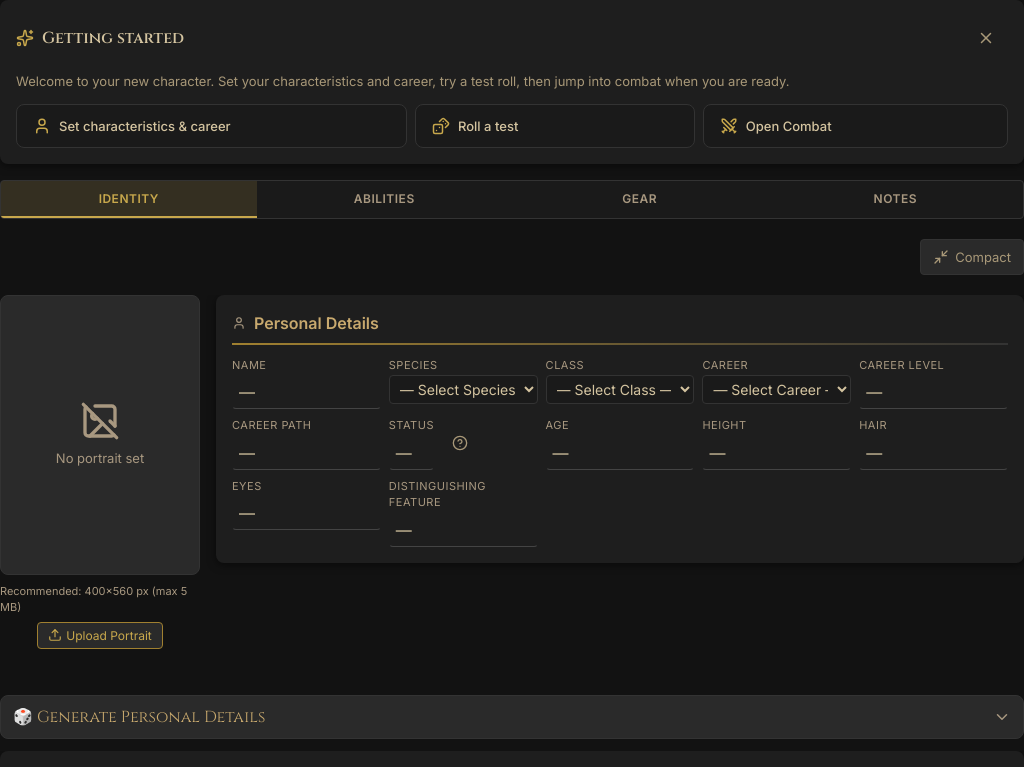
Test: Skill tooltips › pressing Escape dismisses the skill tooltip
The width and height of the screenshot is (1024, 767).
Note: Navigate to the Abilities tab where basic skills are rendered
Click the tab "Abilities". click: {"x": 384, "y": 199}
box: [256,180,512,218]
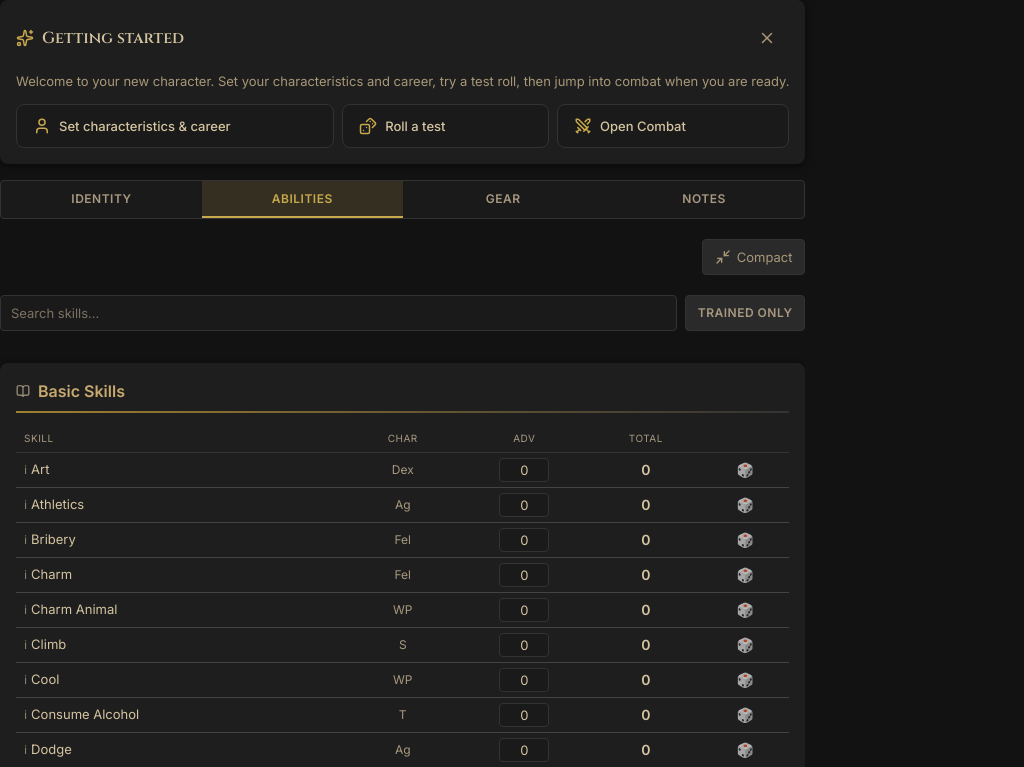
Click the button named "Info for Athletics". click: {"x": 26, "y": 504}
box: [24,496,27,514]
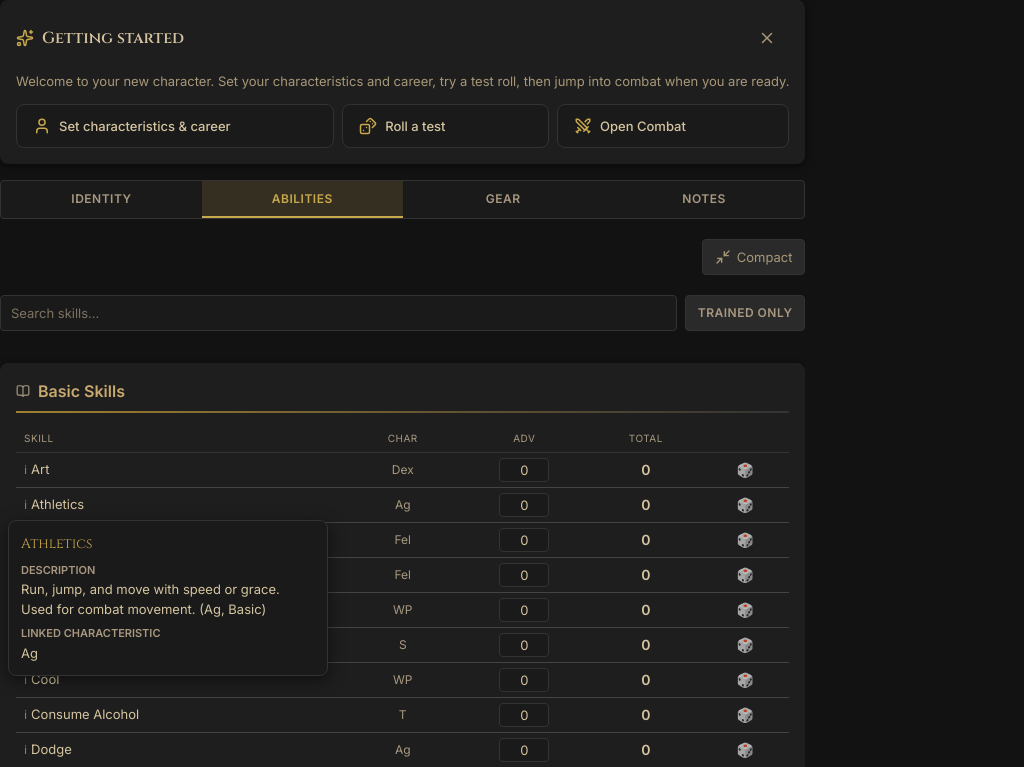
Check: the tooltip is shown, box [8,520,328,676]
Press Escape
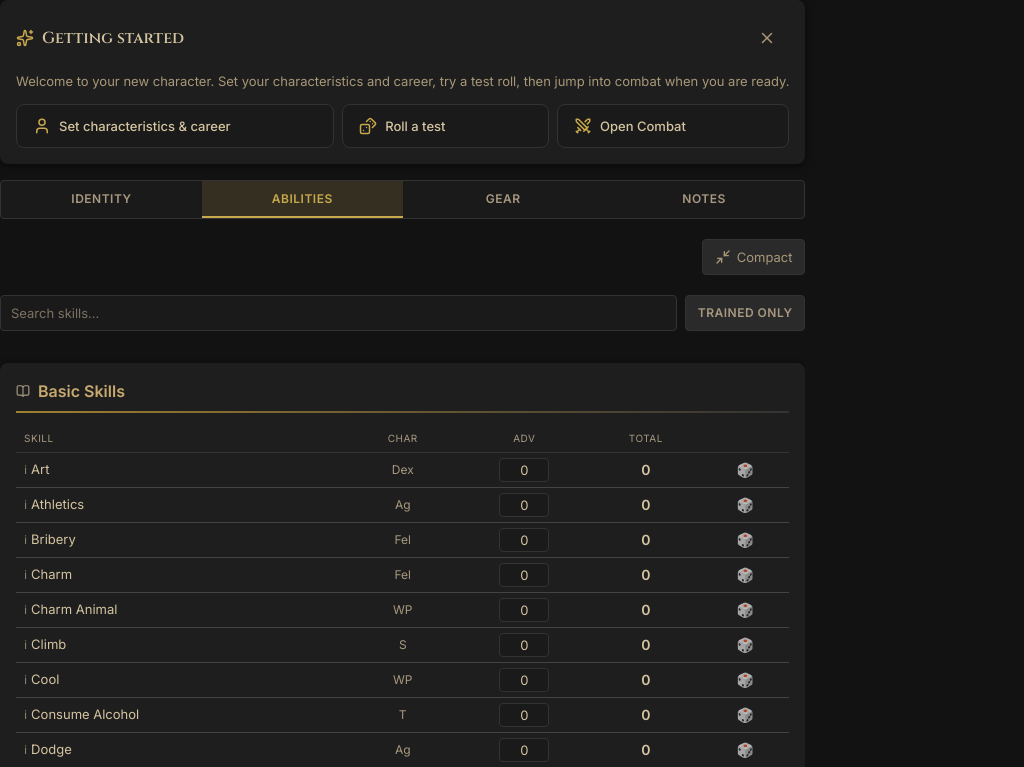
Check: the tooltip is gone
